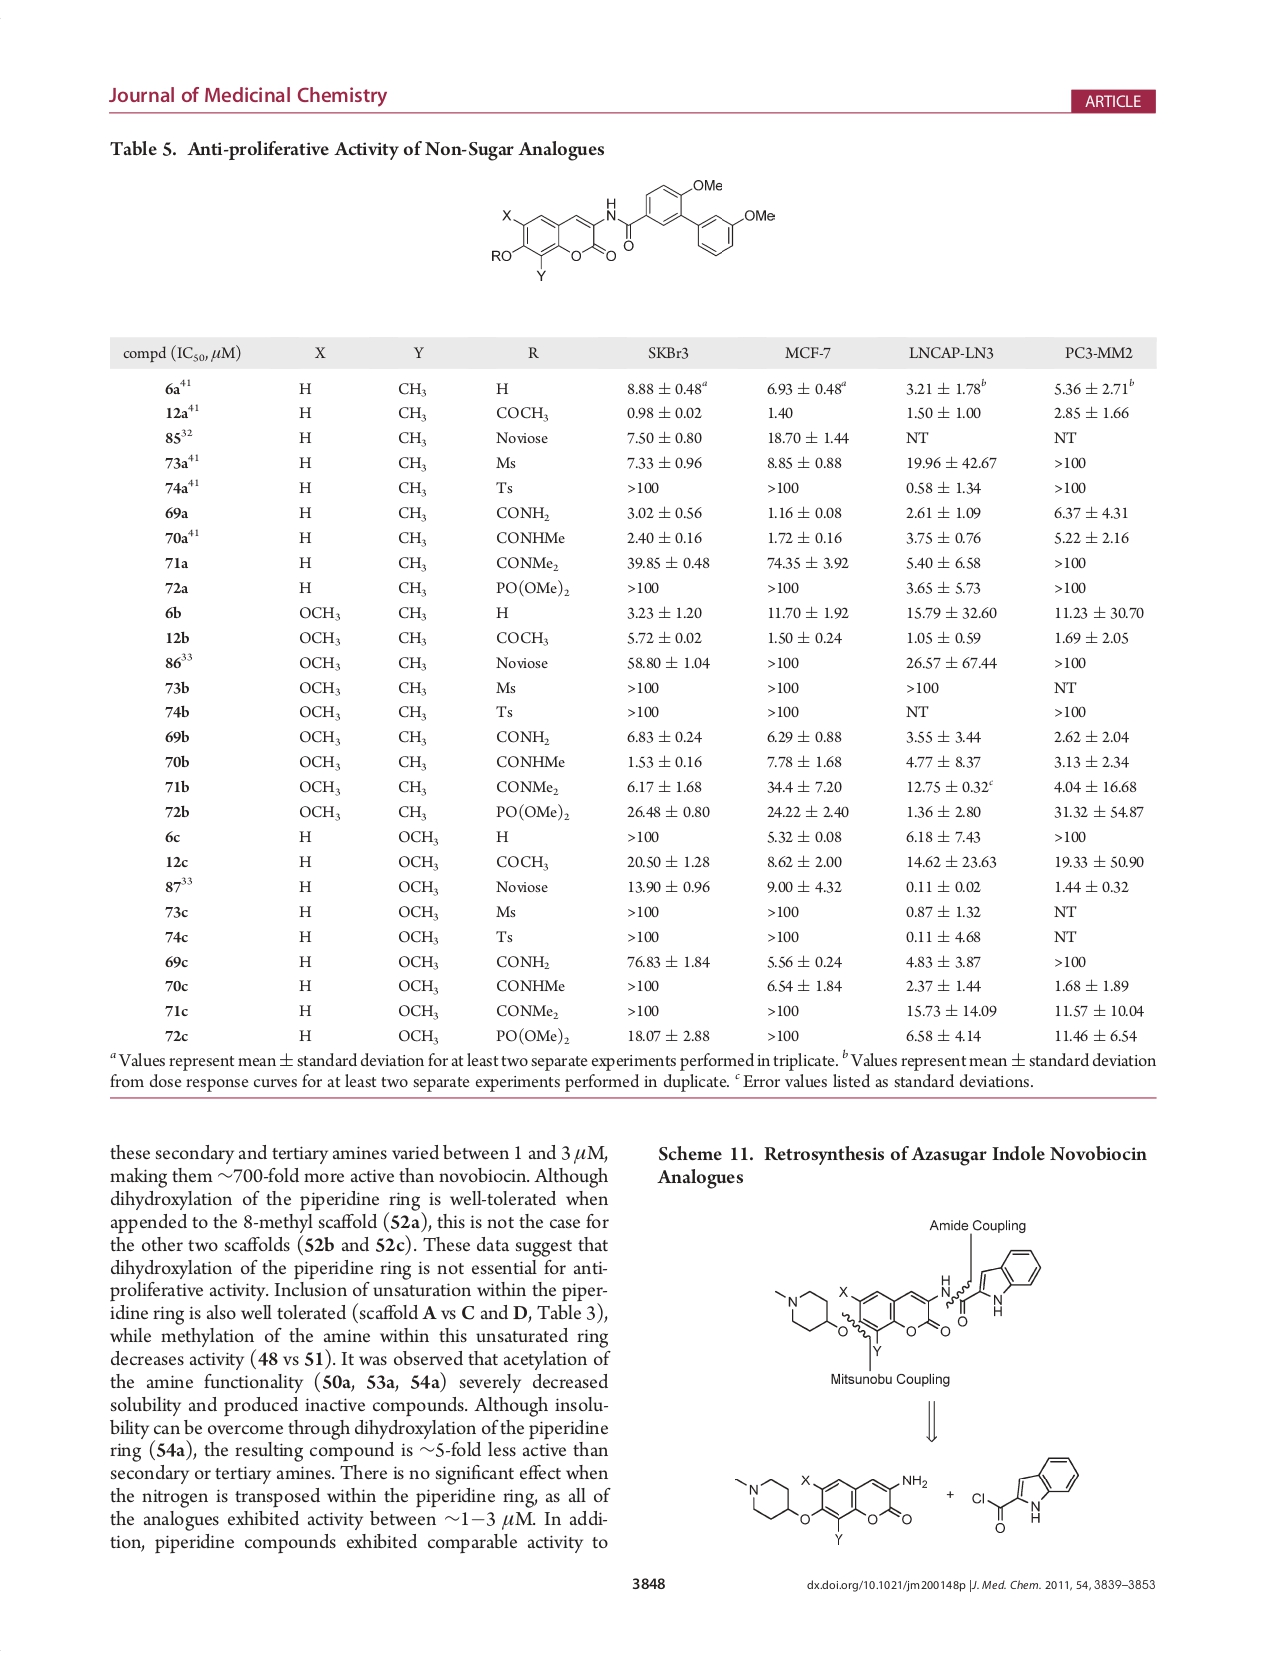exist_molecular: (483, 172, 777, 285), (769, 1247, 1047, 1359), (726, 1467, 931, 1548), (968, 1446, 1081, 1540)
